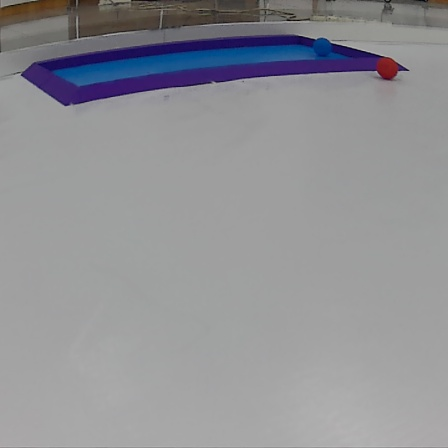blue: (313, 36, 334, 55)
blue_aim: (28, 31, 424, 107)
red: (374, 53, 399, 80)
